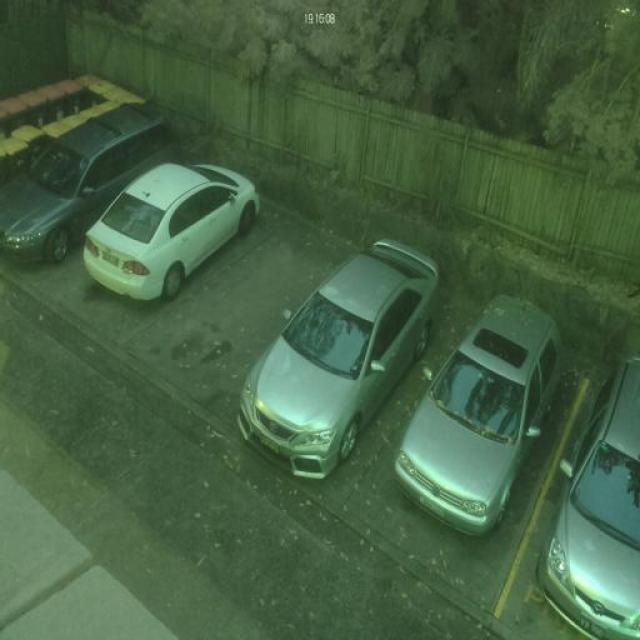Legalparking: (175, 261, 640, 636), (0, 66, 279, 315)
